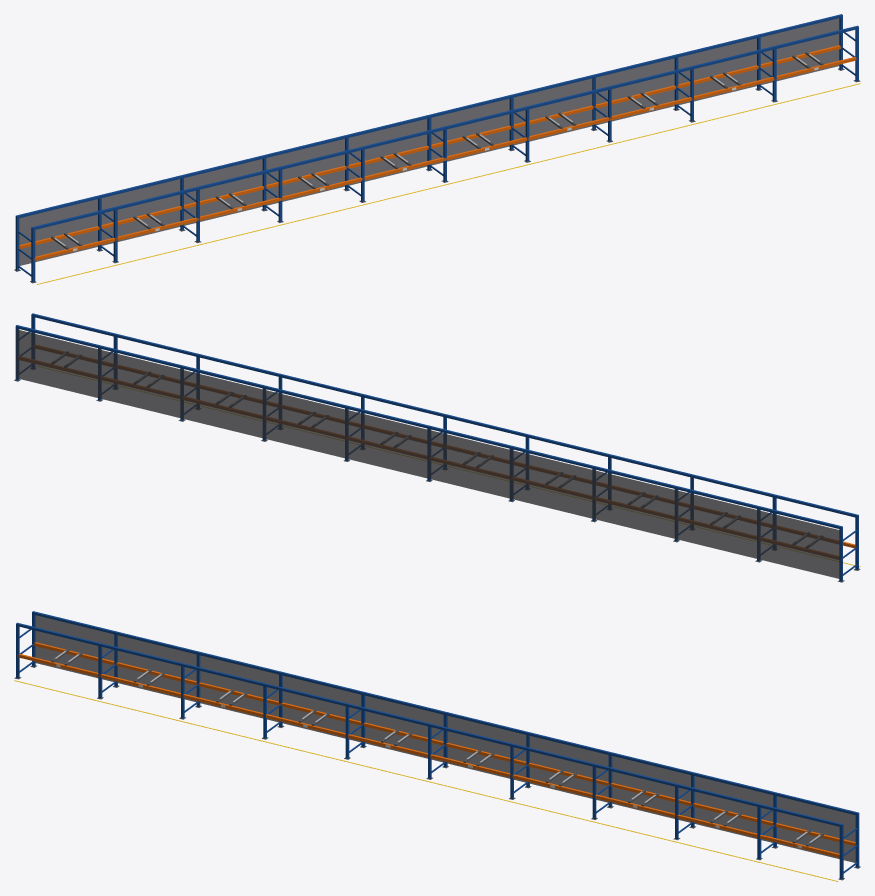
File: storage_1L_10S_3m_centred.glb
3 renders of one model, top to bottom at view 1: azimuth 30°, elevation 25°; view 2: azimuth 150°, elevation 25°; view 3: azimuth 330°, elevation 25°, orthographic.
Parts seen in each view (by area): view 1: rack_frame__mesh, rack_frame__blue, rack_frame__orange, rack_frame__steel_dark, rack_frame__yellow, rack_frame__steel; view 2: rack_frame__mesh, rack_frame__blue, rack_frame__orange, rack_frame__steel_dark; view 3: rack_frame__mesh, rack_frame__blue, rack_frame__orange, rack_frame__steel_dark, rack_frame__yellow, rack_frame__steel.
Boxes of the visible parts, box(x1,y1,x2,y2) form: rack_frame__mesh: box(19, 18, 839, 265); rack_frame__blue: box(15, 14, 858, 282); rack_frame__orange: box(19, 45, 856, 260); rack_frame__steel_dark: box(14, 52, 860, 283); rack_frame__yellow: box(37, 83, 860, 284); rack_frame__steel: box(54, 54, 820, 245); rack_frame__mesh: box(16, 329, 840, 578); rack_frame__blue: box(15, 313, 858, 581); rack_frame__orange: box(18, 345, 856, 559); rack_frame__steel_dark: box(14, 352, 860, 582); rack_frame__mesh: box(35, 615, 855, 862); rack_frame__blue: box(16, 611, 859, 879); rack_frame__orange: box(17, 642, 855, 857); rack_frame__steel_dark: box(14, 649, 860, 880); rack_frame__yellow: box(14, 680, 837, 881); rack_frame__steel: box(54, 651, 820, 842).
Bounding box in the file's own units: 30.16 × 1.9 × 1.33.
